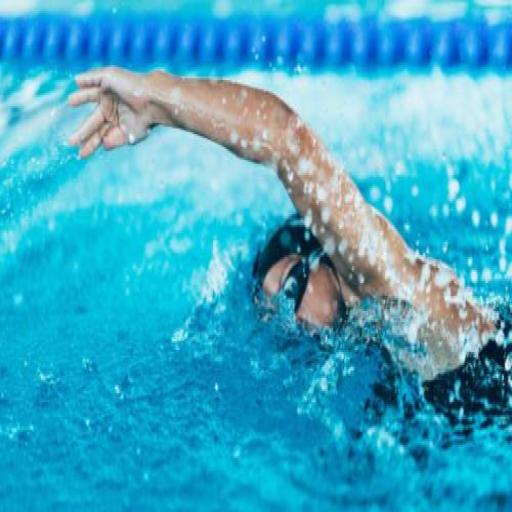swimming: (64, 62, 505, 396)
